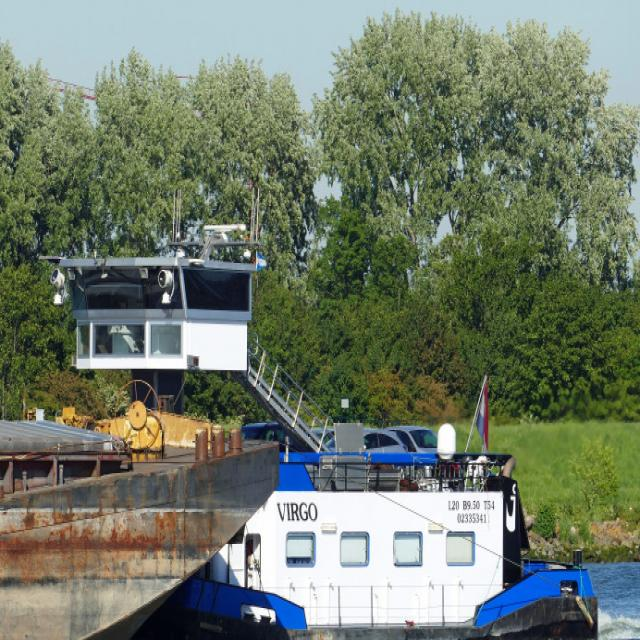tugboat: (43, 215, 606, 640)
